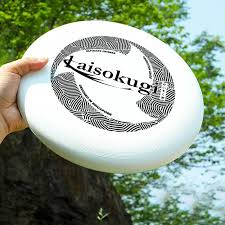disc: (23, 18, 203, 171)
